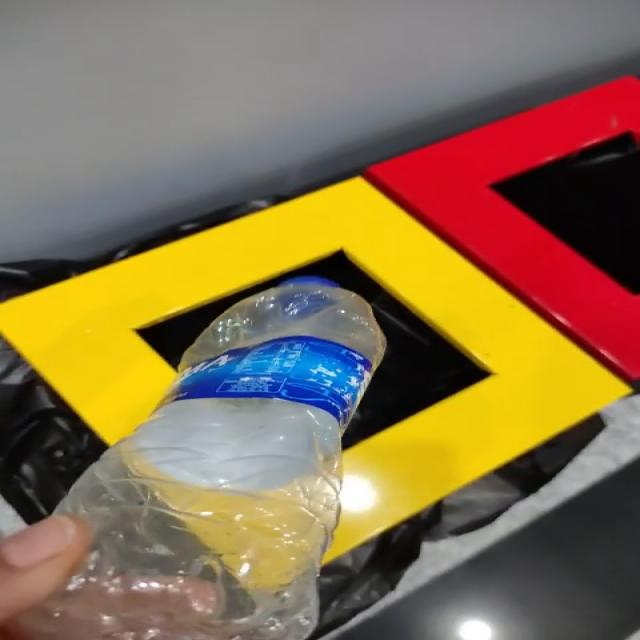plastic: (21, 277, 387, 640)
